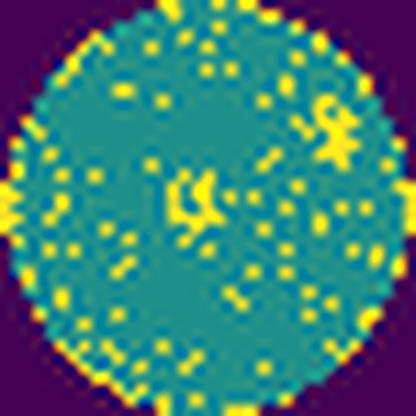Loc: (165, 164, 231, 234), (312, 92, 363, 170)
